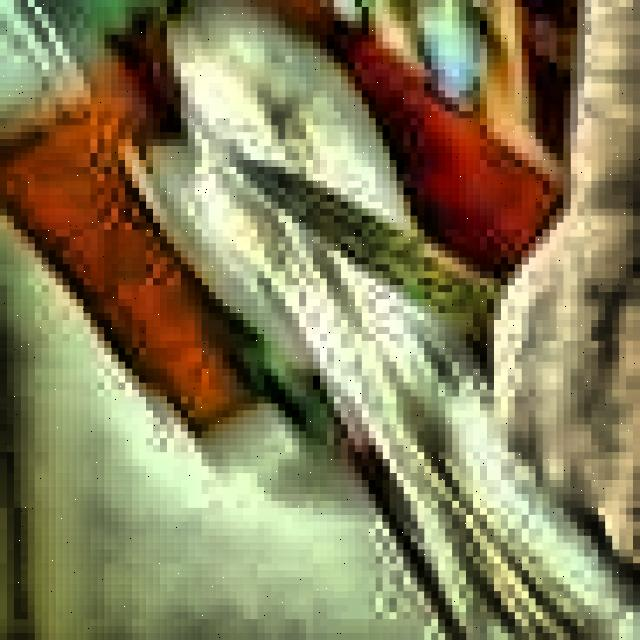knife: (238, 164, 512, 368)
